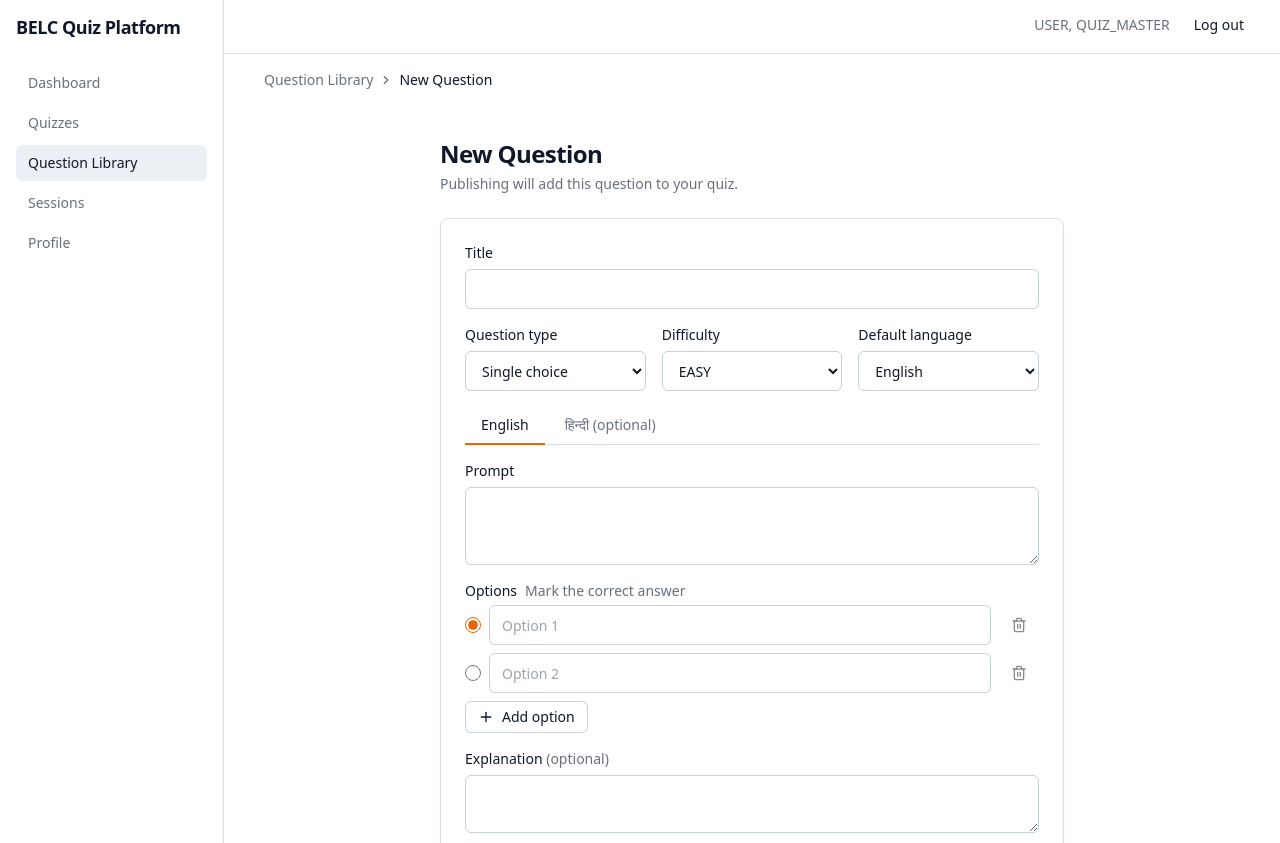
CreateQuestionPage › saves a draft and continues editing it, keeping the quiz context
Type "Exodus leader" into the field labelled "Title".
click(752, 289); type("Exodus leader")  # box [465,269,1039,309]
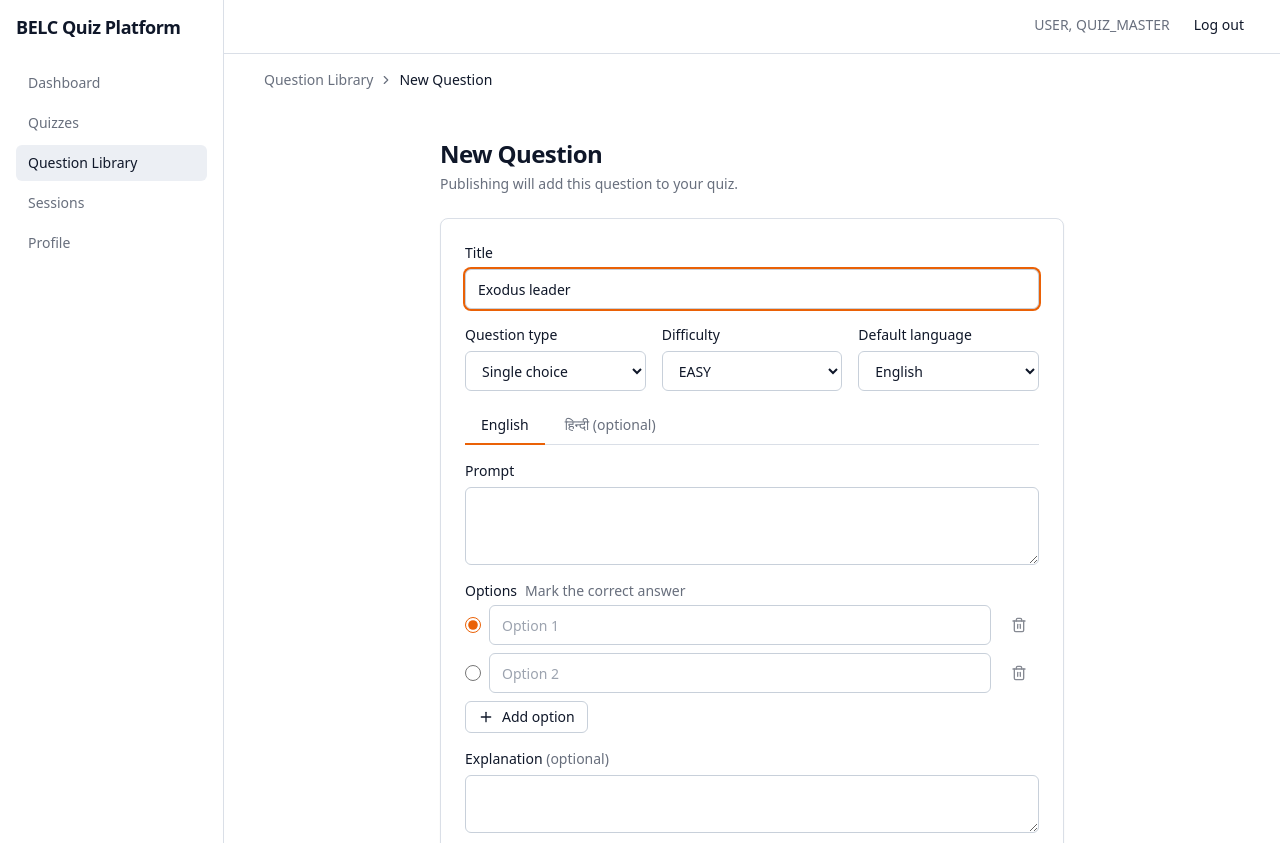
Type "Who led Israel out of Egypt?" into the text box labelled "Prompt".
click(752, 526); type("Who led Israel out of Egypt?")  # box [465,487,1039,565]
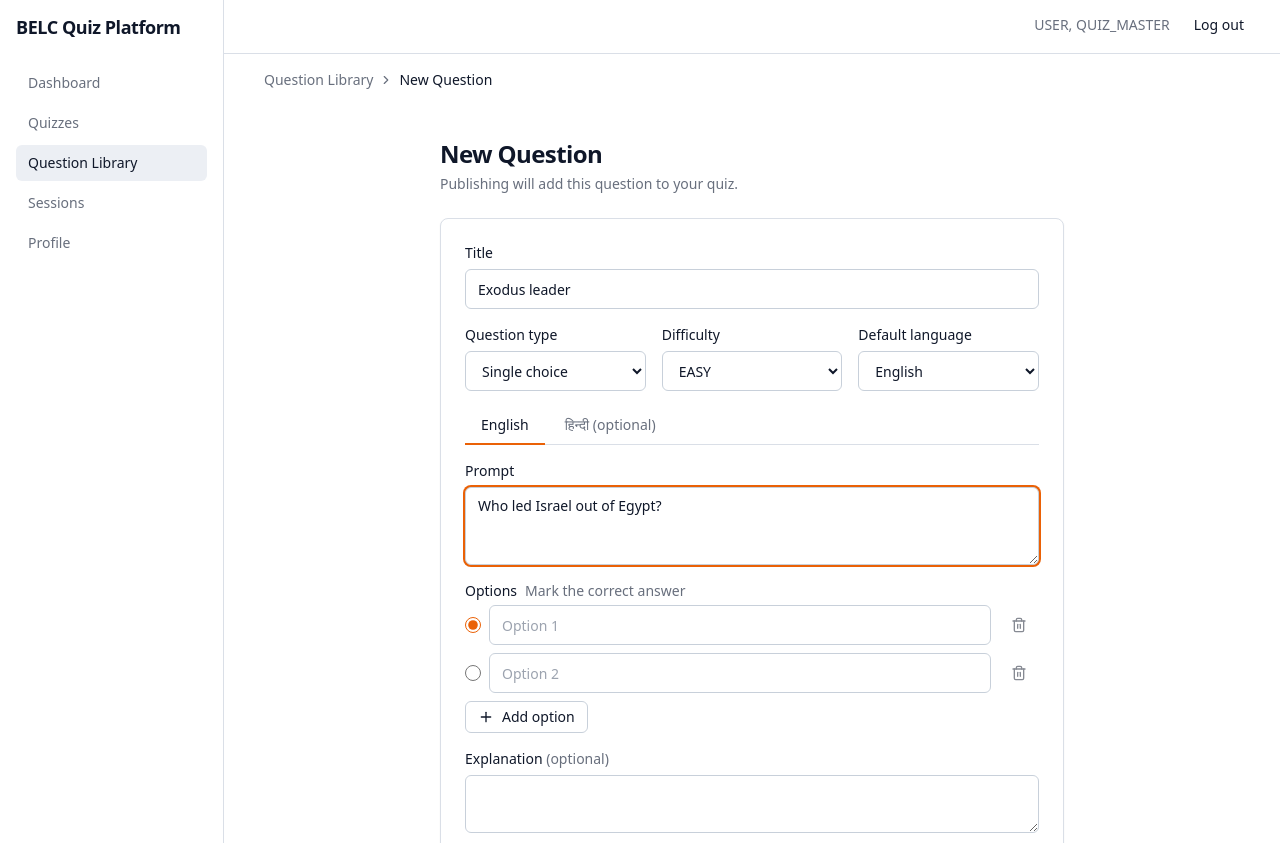
Type "Moses" into the field named "Option 1 text".
click(740, 625); type("Moses")  # box [489,605,991,645]
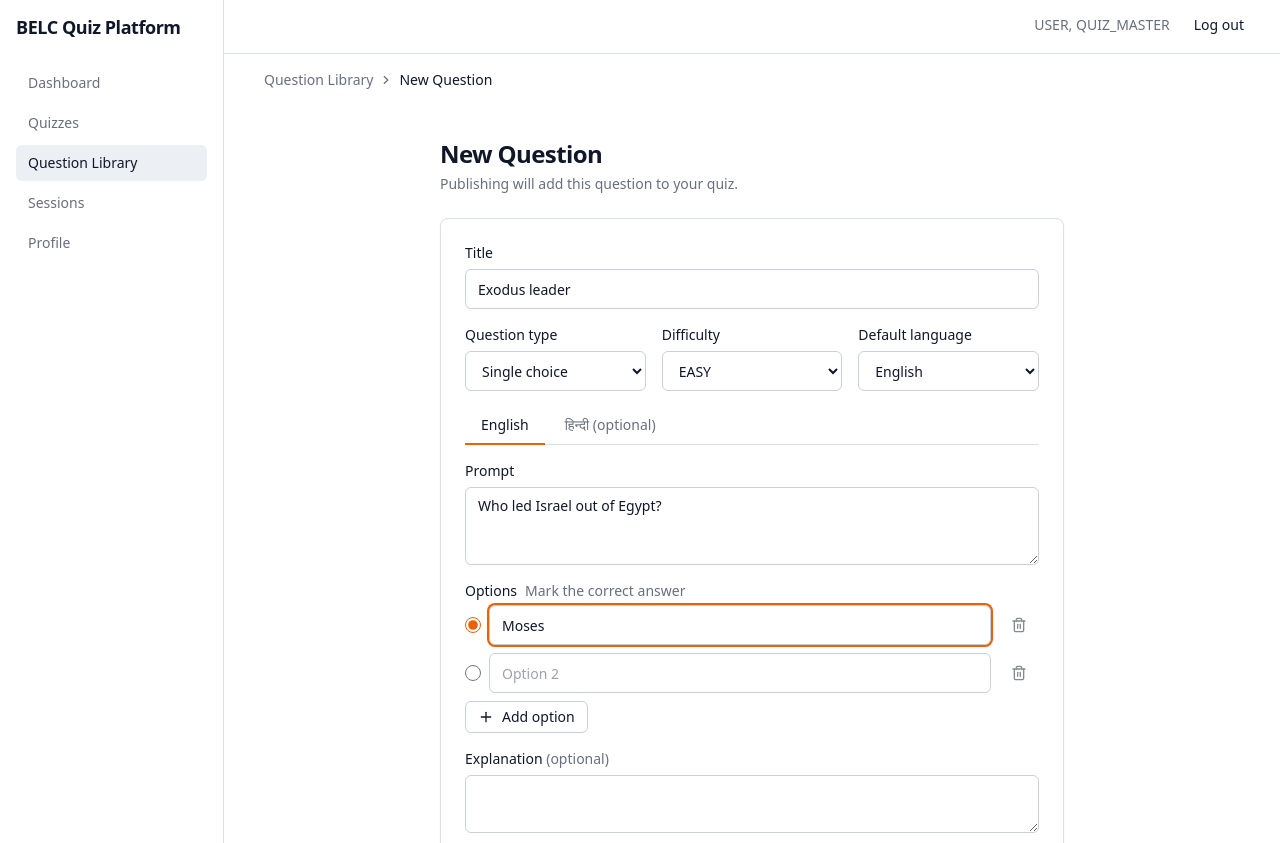
Type "Aaron" into the field named "Option 2 text".
click(740, 673); type("Aaron")  # box [489,653,991,693]
(page scrolled)
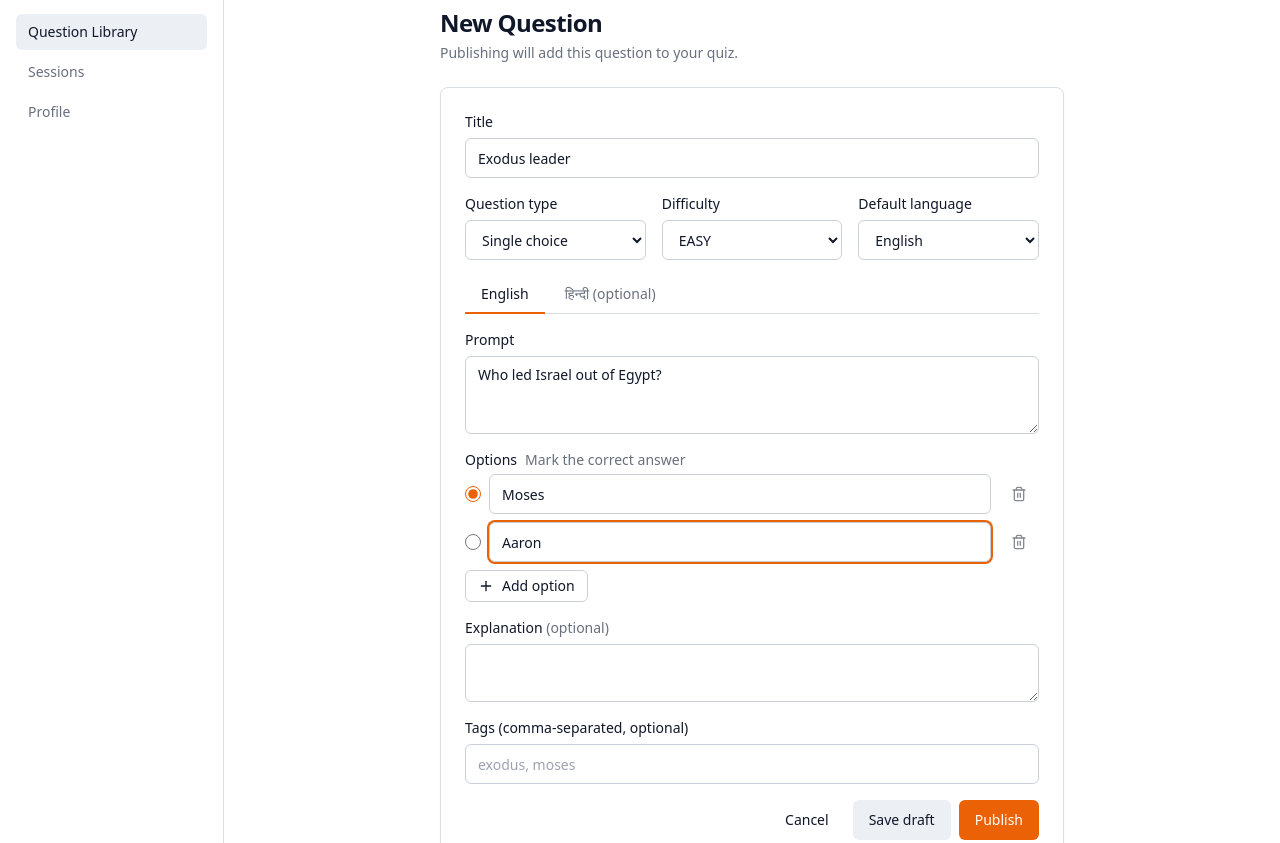
Click the button "Save draft".
click(902, 820)  # box [853,800,951,840]
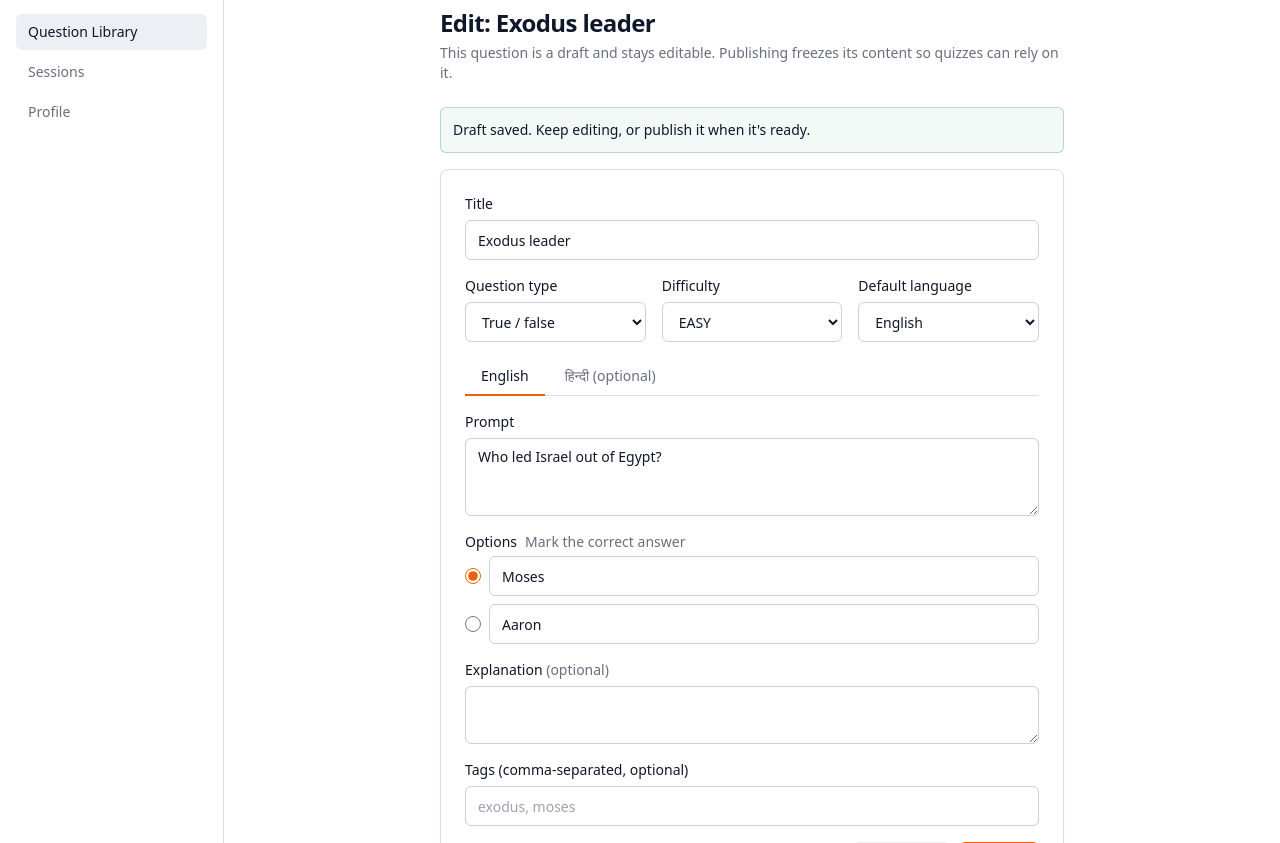
Check: the field showing "Exodus leader" is shown, box [465,220,1039,260]
Check: the text "Draft saved. Keep editing, or publish it when it's ready." is shown, box [440,107,1064,153]
